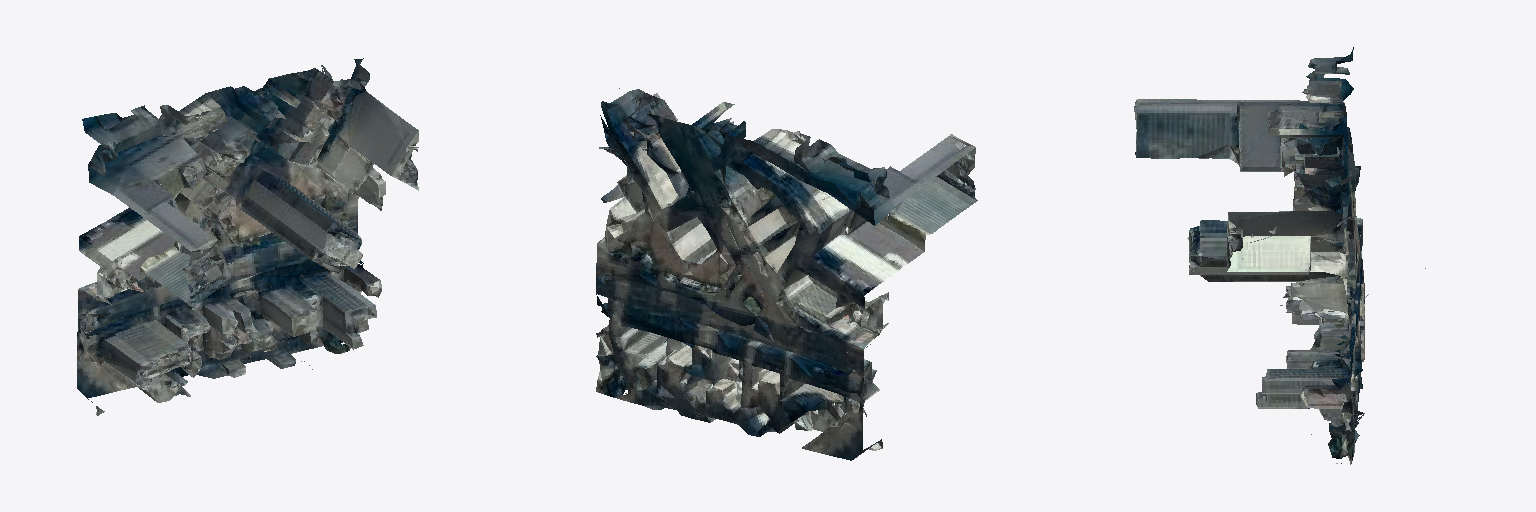
The picture shows the model from 3 angles: view 1: azimuth 30°, elevation 25°; view 2: azimuth 150°, elevation 25°; view 3: azimuth 270°, elevation 25°; orthographic projection.
Parts seen in each view (by area): view 1: Tile_173078_LD_010_018_L15.osgb__Geometry_0; view 2: Tile_173078_LD_010_018_L15.osgb__Geometry_0; view 3: Tile_173078_LD_010_018_L15.osgb__Geometry_0.
Boxes of the visible parts, x1,y1,x2,y2 form: Tile_173078_LD_010_018_L15.osgb__Geometry_0: [77, 58, 418, 415]; Tile_173078_LD_010_018_L15.osgb__Geometry_0: [596, 88, 977, 460]; Tile_173078_LD_010_018_L15.osgb__Geometry_0: [1134, 47, 1425, 464].
Bounding box in the file's own units: 255 × 255 × 236.
1 materials, 1 textured.